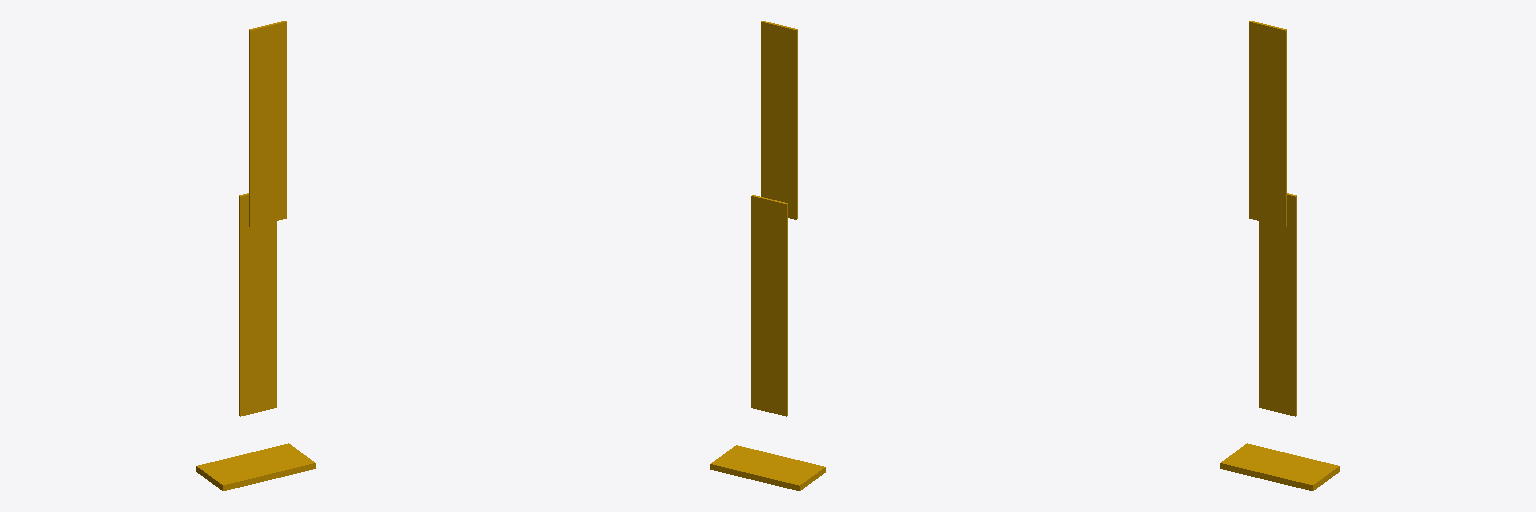
robot.urdf — threedofexample:
<?xml version="1.0"?>

<robot name="threedofexample">

  <!-- ******************************************************** -->
  <!-- ******************* Kinematic Chain ******************** -->
  <!-- ******************************************************** -->
  <!-- Note the 'origin' tag in the joints defines the shift and
       reorientation, i.e. the transform.  For moving joints, this
       happens before the continuous joint rotates around 'axis'. -->

  <!-- World can't take a visual element (at least in Gazebo). -->
  <link name="world"/>

  <joint name="placement" type="fixed">
    <parent link="world"/>
    <child  link="baseplate"/>
    <origin xyz="0 0 0" rpy="0 0 0"/>			<!-- WHERE IS THE BASE -->
  </joint>

  <!-- BASE PLATE: Shift across the base plate to the base motor. --> 
  <link name="baseplate">
    <visual>
      <origin xyz="0.0 0.025 0.0125" rpy="0 0 0"/>
      <geometry>
	<box size="0.2 0.1 0.01235"/>
      </geometry>
      <material name="wood"/>
    </visual>
  </link>

  <joint name="baseplate" type="fixed">
    <parent link="baseplate"/>
    <child  link="basemotor"/>
    <origin xyz="0 0 0.0230" rpy="0 0 -1.5708"/>
  </joint>

  <!-- BASE MOTOR: Thickness: X5 = 31.1mm, X8 = 45.1mm -->
  <link name="basemotor">
    <visual>
      <geometry>
        <mesh filename="package://basic134/meshes/X5.stl"
	      scale="0.001 0.001 0.001"/>
      </geometry>
      <material name="hebi"/>
    </visual>
  </link>

  <joint name="base" type="continuous">
    <parent link="basemotor"/>
    <child  link="lbracket"/>
    <origin xyz="0 0 0.0311" rpy="0 0 0"/>
    <axis   xyz="0 0 1"/>
  </joint>

  <!-- L BRACKET: Shift and rotate across the L bracket. -->
  <link name="lbracket">
    <!-- Add a visual element -->
  </link>

  <joint name="lbracket" type="fixed">
    <parent link="lbracket"/>
    <child  link="shouldermotor"/>
    <origin xyz="0.03 0 0.11317" rpy="0 -1.5708 0"/>	  <!-- L BRACKET DIMENIONS -->
  </joint>

  <!-- SHOULDER MOTOR: Thickness: X5 = 31.1mm, X8 = 45.1mm -->
  <link name="shouldermotor">
    <visual>
      <geometry>
        <mesh filename="package://basic134/meshes/X8.stl"
	      scale="0.001 0.001 0.001"/>
      </geometry>
      <material name="hebi"/>
    </visual>
  </link>

  <joint name="shoulder" type="continuous">
    <parent link="shouldermotor"/>
    <child  link="upperarm"/>
    <origin xyz="0 0 0.0451" rpy="0 0 0"/>
    <axis   xyz="0 0 1"/>
  </joint>

  <!-- UPPER ARM: Shift across the upper arm (1/4in thickness) -->
  <link name="upperarm">
    <visual>
      <origin xyz="0.19 0 0.00275" rpy="0 0 0"/>
      <geometry>
	<box size="0.454 0.08 0.00570"/>
      </geometry>
      <material name="wood"/>
    </visual>
    <!-- Add a visual element -->
  </link>

  <joint name="upperarm" type="fixed">
    <parent link="upperarm"/>
    <child  link="elbowmotor"/>
    <origin xyz="0.4085 0 0.0057" rpy="0 0 0"/>		  <!-- UPPER ARM DIMENIONS -->
  </joint>

  <!-- Elbow motor.  Thickness: X5 = 31.1mm, X8 = 45.1mm -->
  <link name="elbowmotor">
      <visual>
	<origin xyz="0 0 -0.0057" rpy = "0 0 0"/>
      <geometry>
        <mesh filename="package://basic134/meshes/X5.stl"
	      scale="0.001 0.001 0.001"/>
      </geometry>
      <material name="hebi"/>
    </visual>
  </link>

  <joint name="elbow" type="continuous">
    <parent link="elbowmotor"/>
    <child  link="lowerarm"/>
    <origin xyz="0 0 -0.0311" rpy="0 0 0"/>
    <axis   xyz="0 0 1"/>
  </joint>

  <!-- Shift across the upper arm (1/4in thickness) -->
  <link name="lowerarm">
    <visual>
      <origin xyz="0.163 0 -0.00902" rpy="0 0 0"/>
      <geometry>
	      <box size="0.406 0.08 0.00570"/>
      </geometry>
      <material name="wood"/>
    </visual>
  </link>

  <joint name="lowerarm" type="fixed">
    <parent link="lowerarm"/>
    <child  link="tip"/>
    <origin xyz="0.366 0 0.00285" rpy="0 0 0"/>		  <!-- LOWER ARM DIMENIONS -->
  </joint>

  <!-- TIP FRAME -->
  <link name="tip"/>

  
  <!-- *************************************************** -->
  <!-- *************** Visual Link Elements ************** -->
  <!-- *************************************************** -->
  <!-- Note collada .dae files have better color/texture   -->
  <!-- suppport that STL files.                            -->

  <!-- Colors -->
  <material name="wood">  <color rgba="0.82 0.62 0.04 1"/>  </material>
  <material name="hebi">  <color rgba="0.82 0.06 0.06 1"/>  </material>

</robot>

--- Render facts (derived) ---
The picture shows the robot from 3 angles, left to right: view 1: azimuth 30°, elevation 25°; view 2: azimuth 150°, elevation 25°; view 3: azimuth 330°, elevation 25°; orthographic projection.
Robot: threedofexample — 9 links, 8 joints (3 continuous, 5 fixed); root link world; default pose: every joint at zero.
Links seen in each view (by area): view 1: lowerarm, upperarm, baseplate; view 2: upperarm, lowerarm, baseplate; view 3: lowerarm, upperarm, baseplate.
Boxes of the visible links, left/top/right/bottom form: lowerarm: left=249, top=21, right=286, bottom=226; upperarm: left=239, top=193, right=276, bottom=416; baseplate: left=196, top=443, right=315, bottom=490; upperarm: left=751, top=195, right=787, bottom=416; lowerarm: left=761, top=21, right=797, bottom=219; baseplate: left=710, top=445, right=825, bottom=490; lowerarm: left=1249, top=21, right=1286, bottom=226; upperarm: left=1259, top=193, right=1296, bottom=416; baseplate: left=1220, top=443, right=1339, bottom=490.
Bounding box of the posed robot: 0.2 × 0.1 × 0.9354 m (x, y, z).
Meshes: 2 distinct files referenced, 0 mesh visuals loaded (none loaded); not drawn: 3 (reference not matched to a file when rendering).
